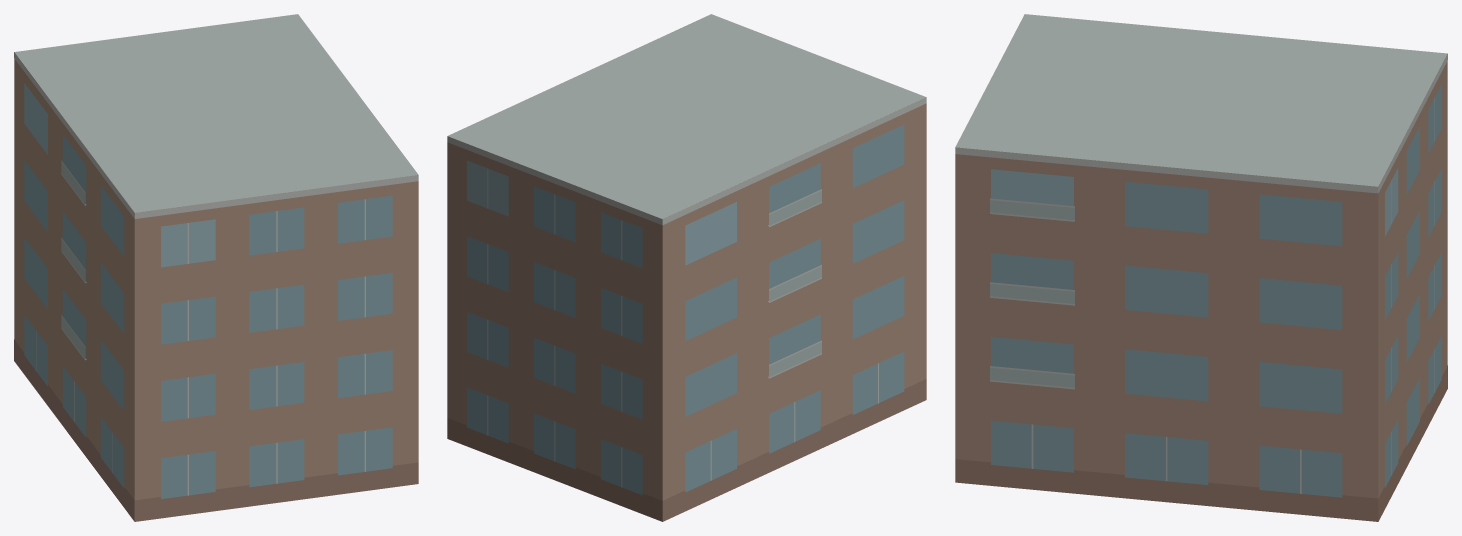
Rendered from residential-2fb7d1eb-a55a-4f7d-ba5f-1b671120be03.glb.
3 views of the same model, side by side, from view 1: azimuth 30°, elevation 25°; view 2: azimuth 150°, elevation 25°; view 3: azimuth 270°, elevation 25° (orthographic). The views are drawn at different scales.
Parts seen in each view (by area): view 1: residential-2fb7d1eb-a55a-4f7d-ba5f-1b671120be03.tmp; view 2: residential-2fb7d1eb-a55a-4f7d-ba5f-1b671120be03.tmp; view 3: residential-2fb7d1eb-a55a-4f7d-ba5f-1b671120be03.tmp.
Part boxes in pixels (bbox=[...]): residential-2fb7d1eb-a55a-4f7d-ba5f-1b671120be03.tmp: bbox=[14, 14, 418, 521]; residential-2fb7d1eb-a55a-4f7d-ba5f-1b671120be03.tmp: bbox=[447, 14, 926, 521]; residential-2fb7d1eb-a55a-4f7d-ba5f-1b671120be03.tmp: bbox=[955, 14, 1447, 521].
Size of the model in its own units: 13.5 by 12.2 by 16.26.
